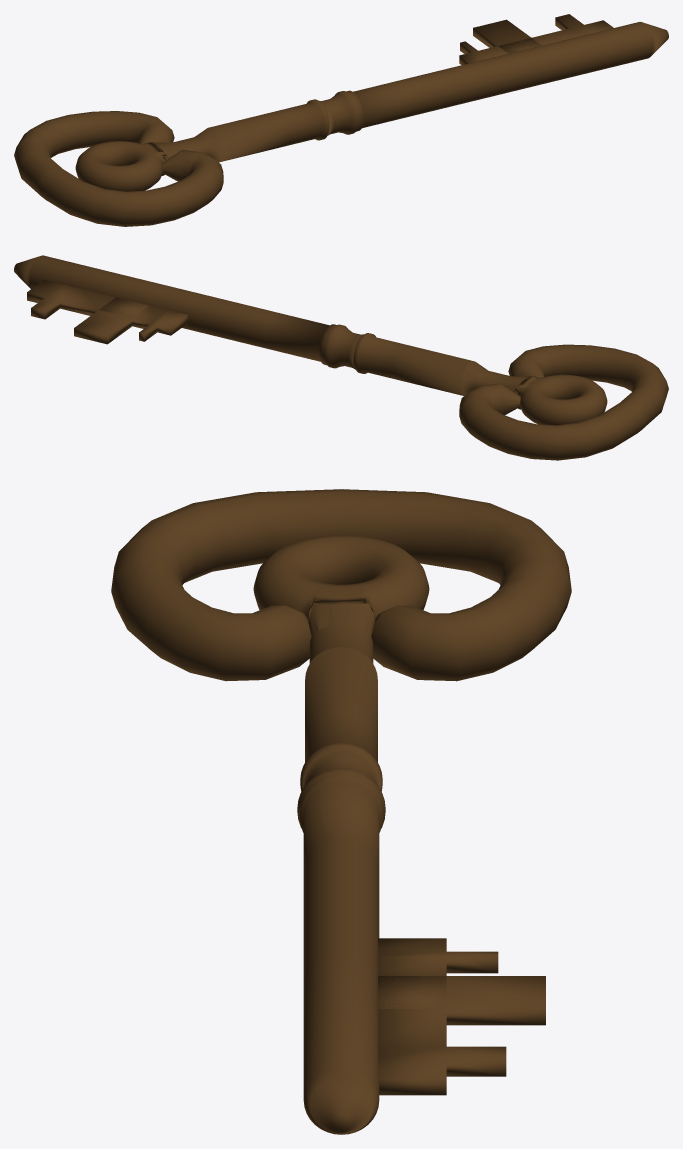
File: key.fbx
3 renders of one model, top to bottom at view 1: azimuth 30°, elevation 25°; view 2: azimuth 150°, elevation 25°; view 3: azimuth 270°, elevation 25°, orthographic. The views are drawn at different scales.
Parts seen in each view (by area): view 1: BezierCurve; view 2: BezierCurve; view 3: BezierCurve.
Part boxes in pixels (x1,y1,x2,y2): BezierCurve: (14, 14, 668, 226); BezierCurve: (14, 255, 668, 460); BezierCurve: (111, 489, 571, 1134).
Size of the model in its own units: 94.11 by 5.73 by 29.88.
